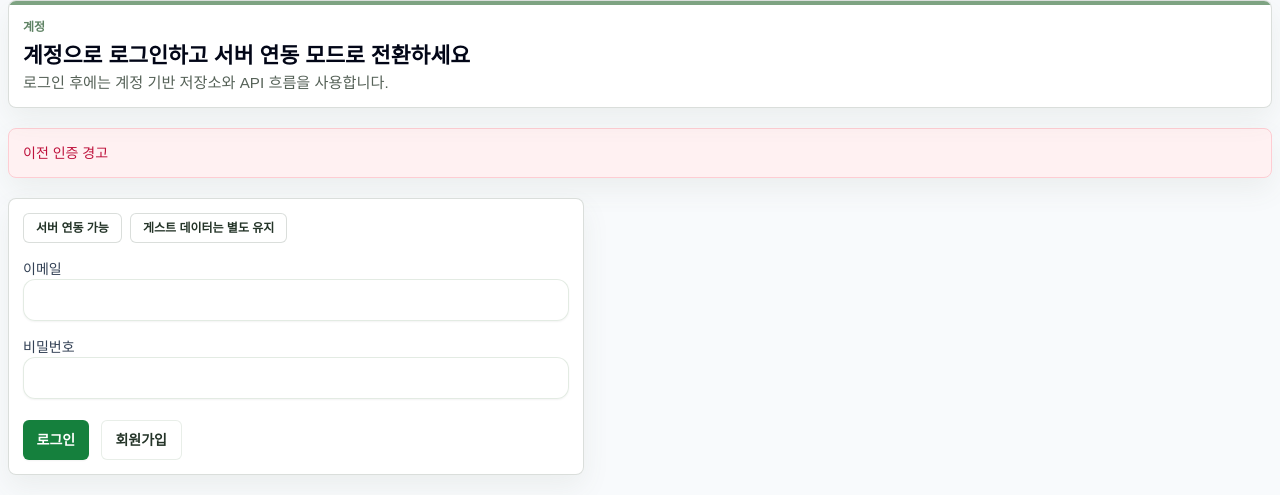
Test: LoginPage › shows a login form error in place of an existing auth warning
The width and height of the screenshot is (1280, 495).
Type "user@example.com" into the field labelled "이메일" at (296, 300), box [23, 279, 569, 321]
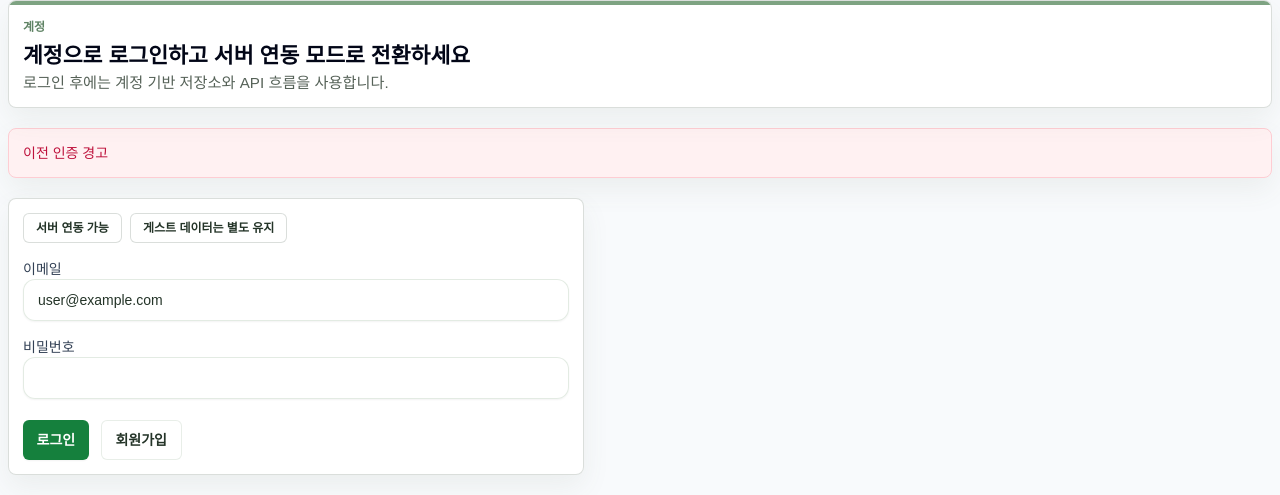
Type "StrongPassphrase123!" into the password field labelled "비밀번호" at (296, 378), box [23, 357, 569, 399]
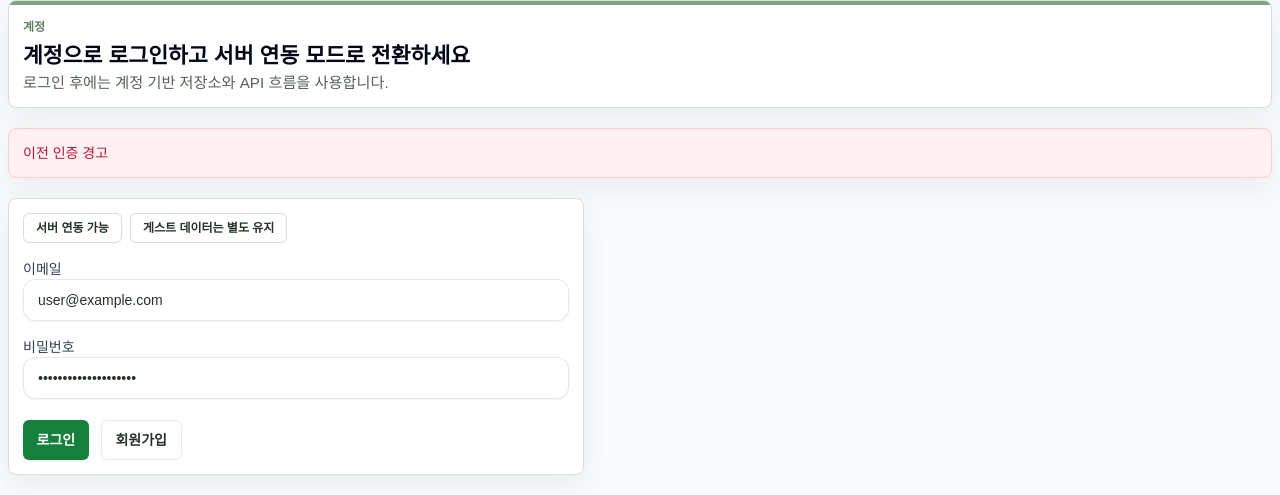
Submit the form "로그인", box [8, 198, 584, 474]
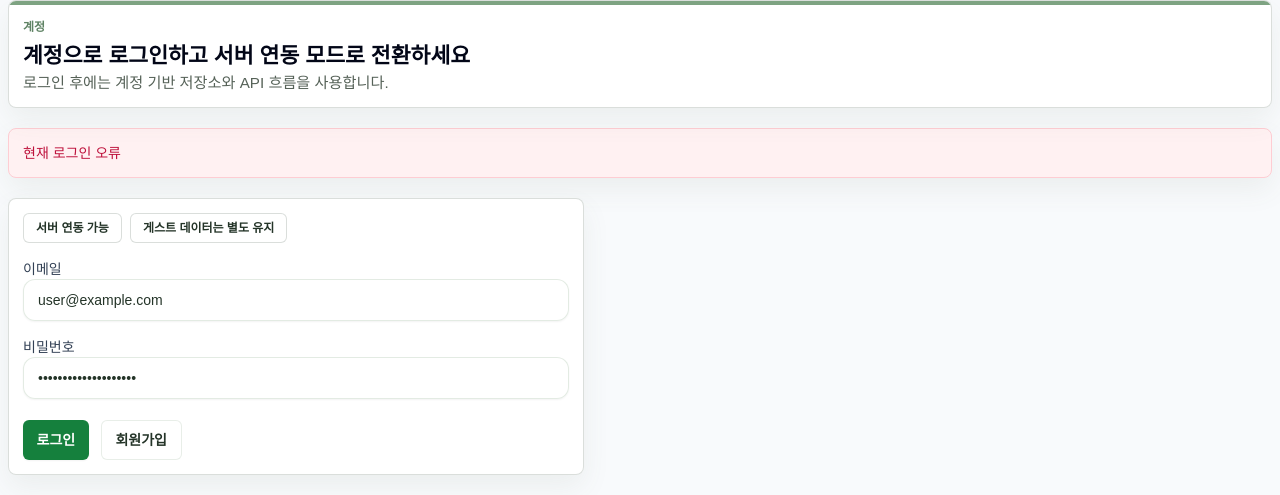
Now the text "현재 로그인 오류" is shown, box [8, 128, 1272, 178]
Now the text "이전 인증 경고" is gone
